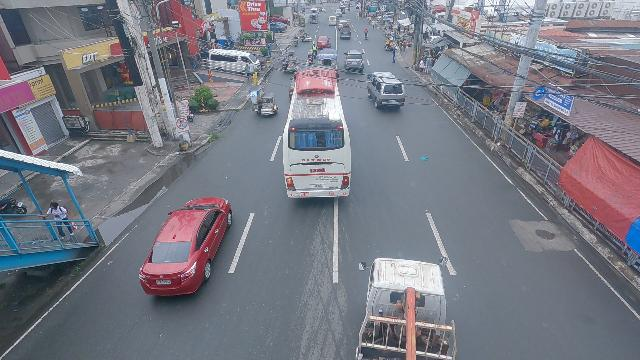bus: (280, 69, 356, 204)
car: (137, 194, 232, 297), (343, 49, 365, 73), (316, 35, 331, 49), (340, 25, 352, 40), (335, 9, 342, 18)
jeepney: (317, 48, 339, 68), (310, 13, 319, 23)
motorcycle: (307, 48, 314, 65), (312, 42, 318, 58), (293, 35, 299, 47), (364, 28, 368, 39)
truck: (348, 255, 459, 360)
van: (367, 71, 405, 111), (207, 48, 258, 76), (328, 15, 337, 25), (338, 20, 349, 27)
